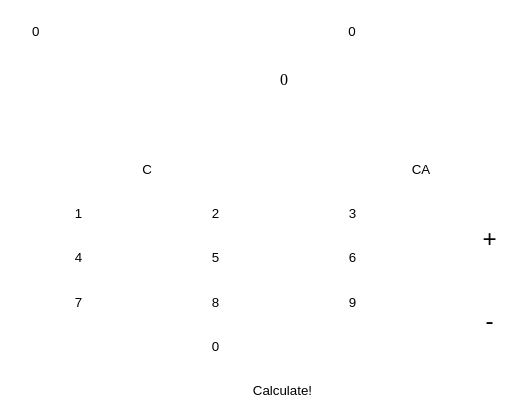
Test: Calculator App › should clear active display on click clear button
Click the button "1" at [79, 214], box [17,198,140,229]
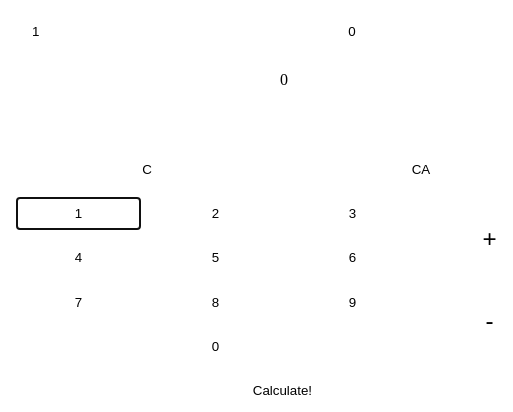
Click the button "1" at [79, 214], box [17,198,140,229]
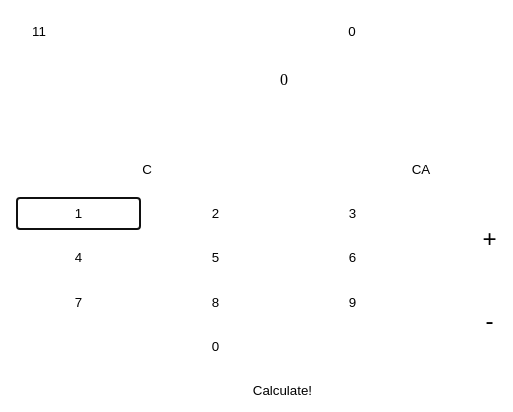
Click the button named "clear" at [147, 169], box [17,154,277,185]
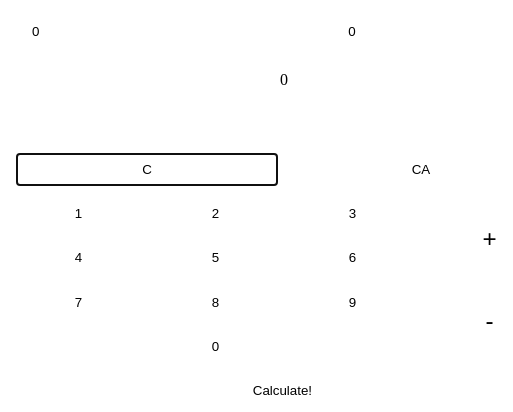
Expected: the field named "Operand 1" holds "0", [24,16,228,47]
